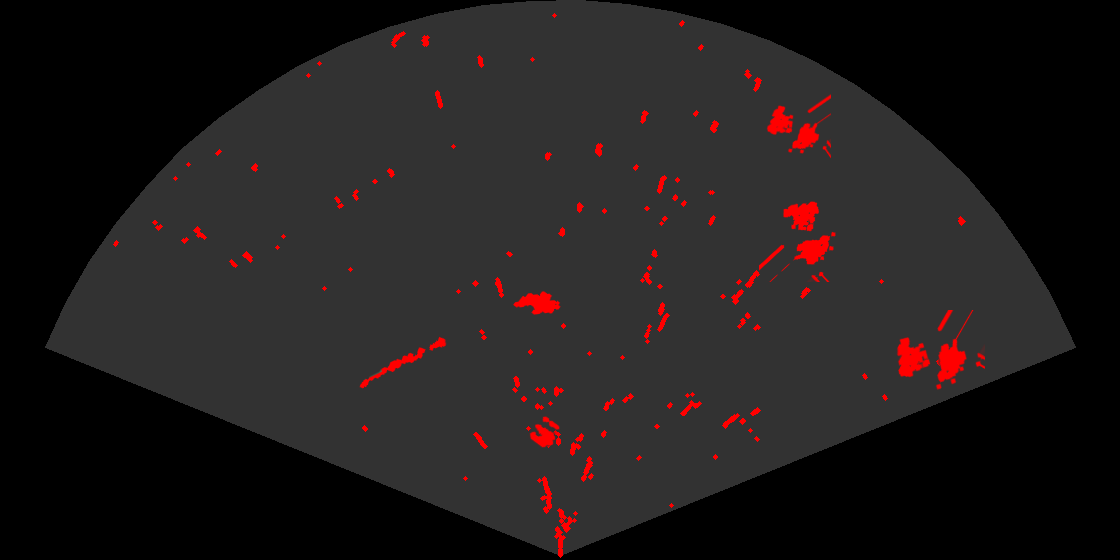AUV: (512, 290, 562, 316)
ball: (528, 415, 561, 449)
cage: (895, 310, 985, 391), (759, 200, 837, 282), (765, 92, 831, 160)
chain: (358, 335, 448, 390)
